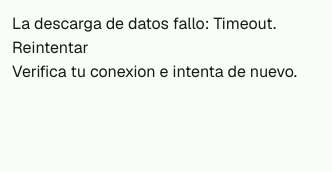
Test case: BootstrapGate › failed state › transitions to failed with error when resumeBootstrap rejects
Click the button "Reintentar". click: point(50, 48)
box: [12,36,88,60]
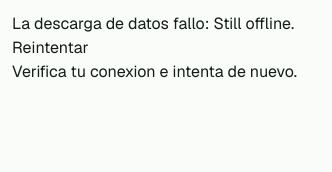
Result: the text "La descarga de datos fallo: Still offline." is shown at [12,13,294,34]
